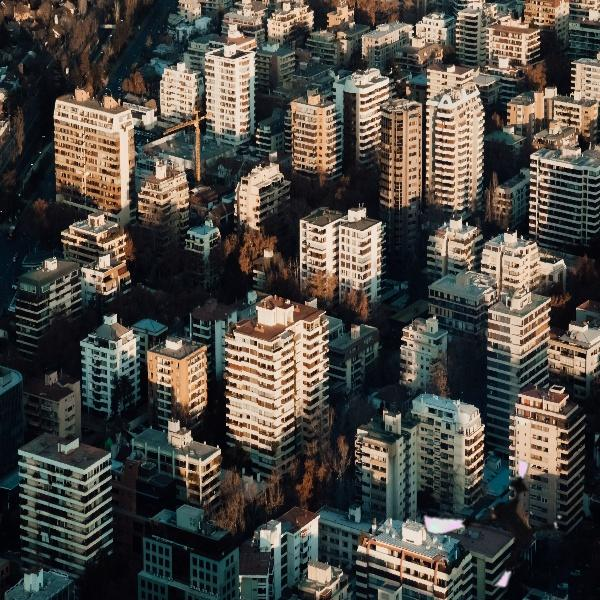drone: (419, 446, 569, 596)
